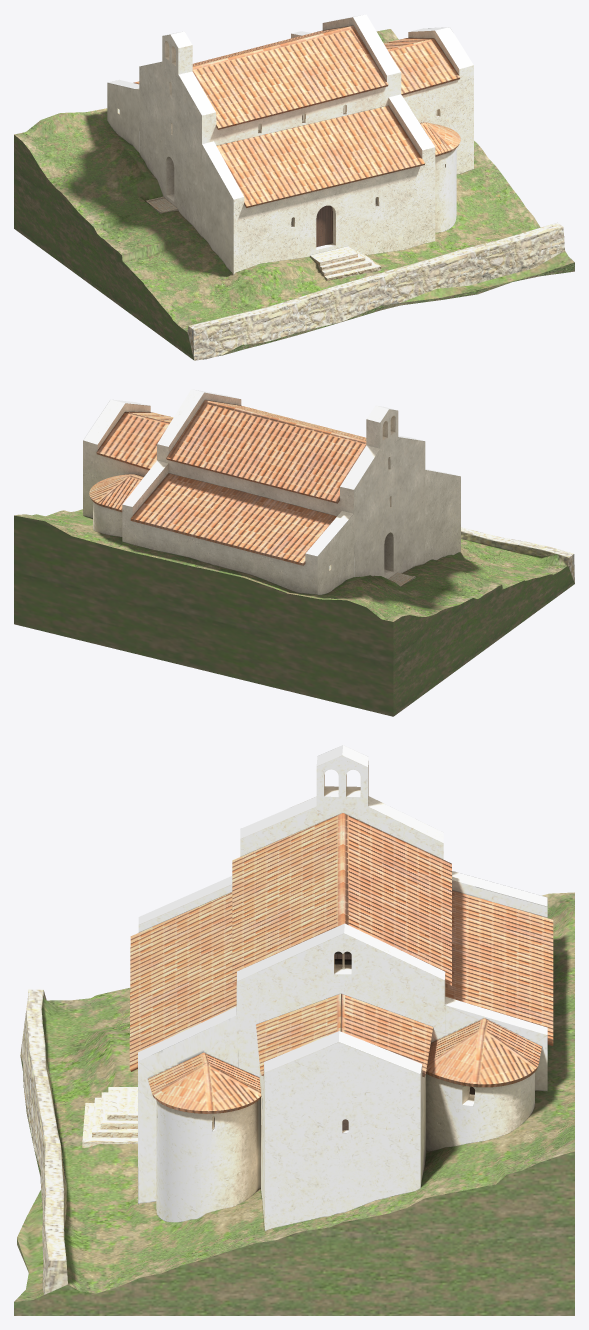
File: pedret_X.glb
The picture shows the model from 3 angles, top to bottom: view 1: azimuth 30°, elevation 25°; view 2: azimuth 150°, elevation 25°; view 3: azimuth 270°, elevation 25°; orthographic projection. The views are drawn at different scales.
Parts seen in each view (by area): view 1: PEDRET_X-baked-2, PEDRET_X-baked-1; view 2: PEDRET_X-baked-2, PEDRET_X-baked-1; view 3: PEDRET_X-baked-2, PEDRET_X-baked-1.
Part boxes in pixels (x1,y1,x2,y2): PEDRET_X-baked-2: (14,25,574,359); PEDRET_X-baked-1: (107,14,564,360); PEDRET_X-baked-2: (14,400,574,716); PEDRET_X-baked-1: (83,389,574,594); PEDRET_X-baked-2: (14,813,574,1315); PEDRET_X-baked-1: (20,745,547,1294).
Size of the model in its own units: 21 by 12.3 by 17.78.
3 materials, 3 textured.
